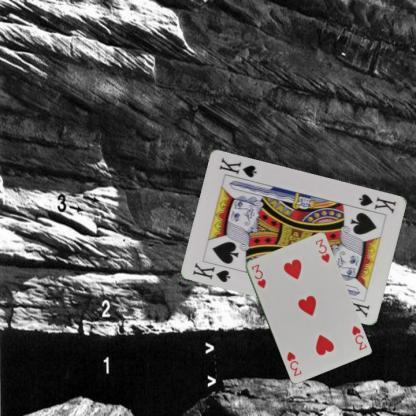3h: (349, 322, 368, 352), (248, 262, 266, 290)
Ks: (356, 190, 398, 216), (191, 259, 233, 284)
